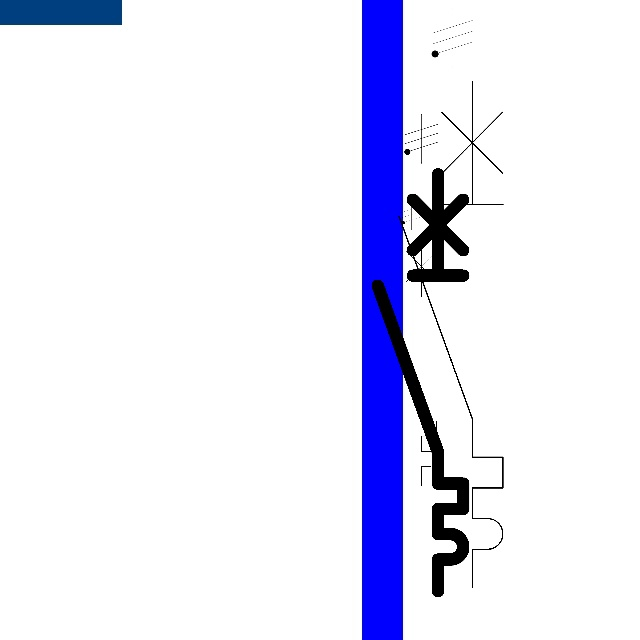interruptor_termomagnetico: (386, 68, 516, 601), (367, 163, 474, 602), (379, 229, 443, 492)
